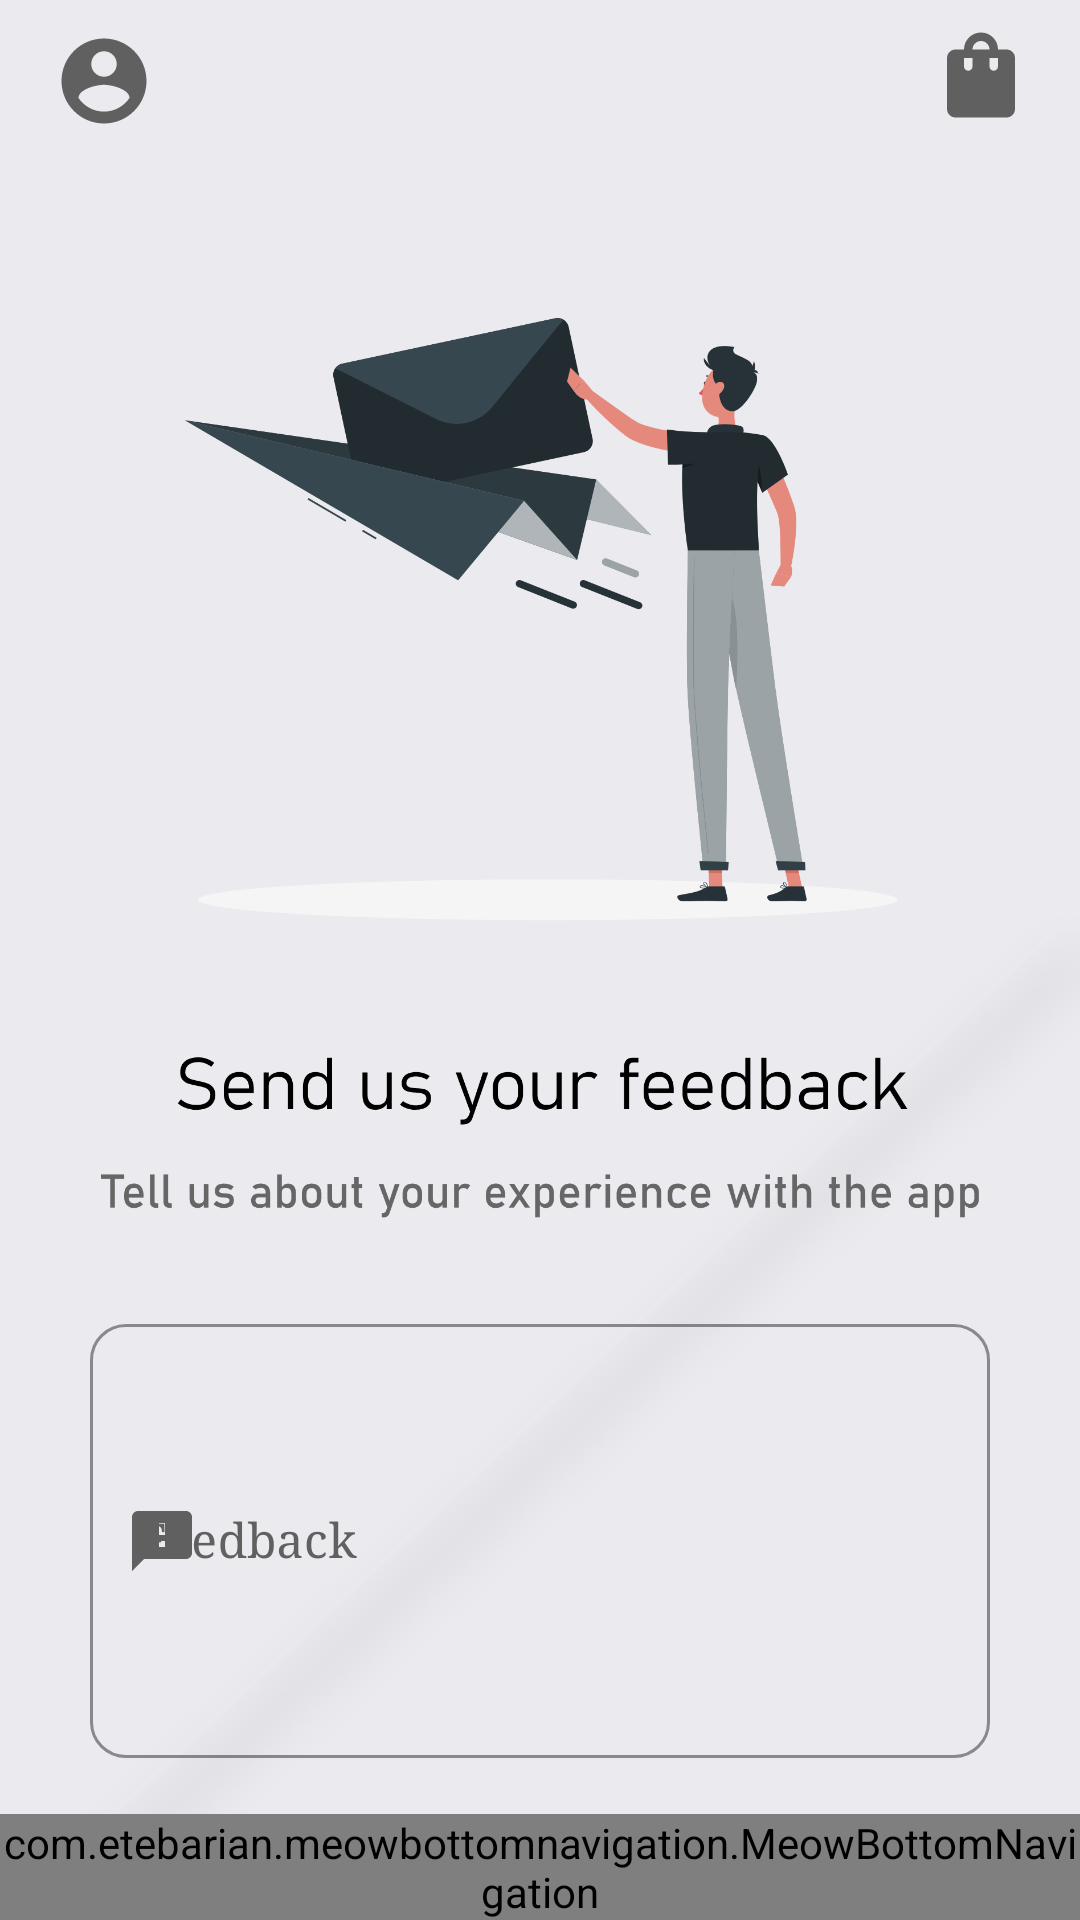

Where to tap for icons on this 1080px×1920px app screen, as point (x, y):
account: point (104, 81)
shopping bag: point (981, 75)
